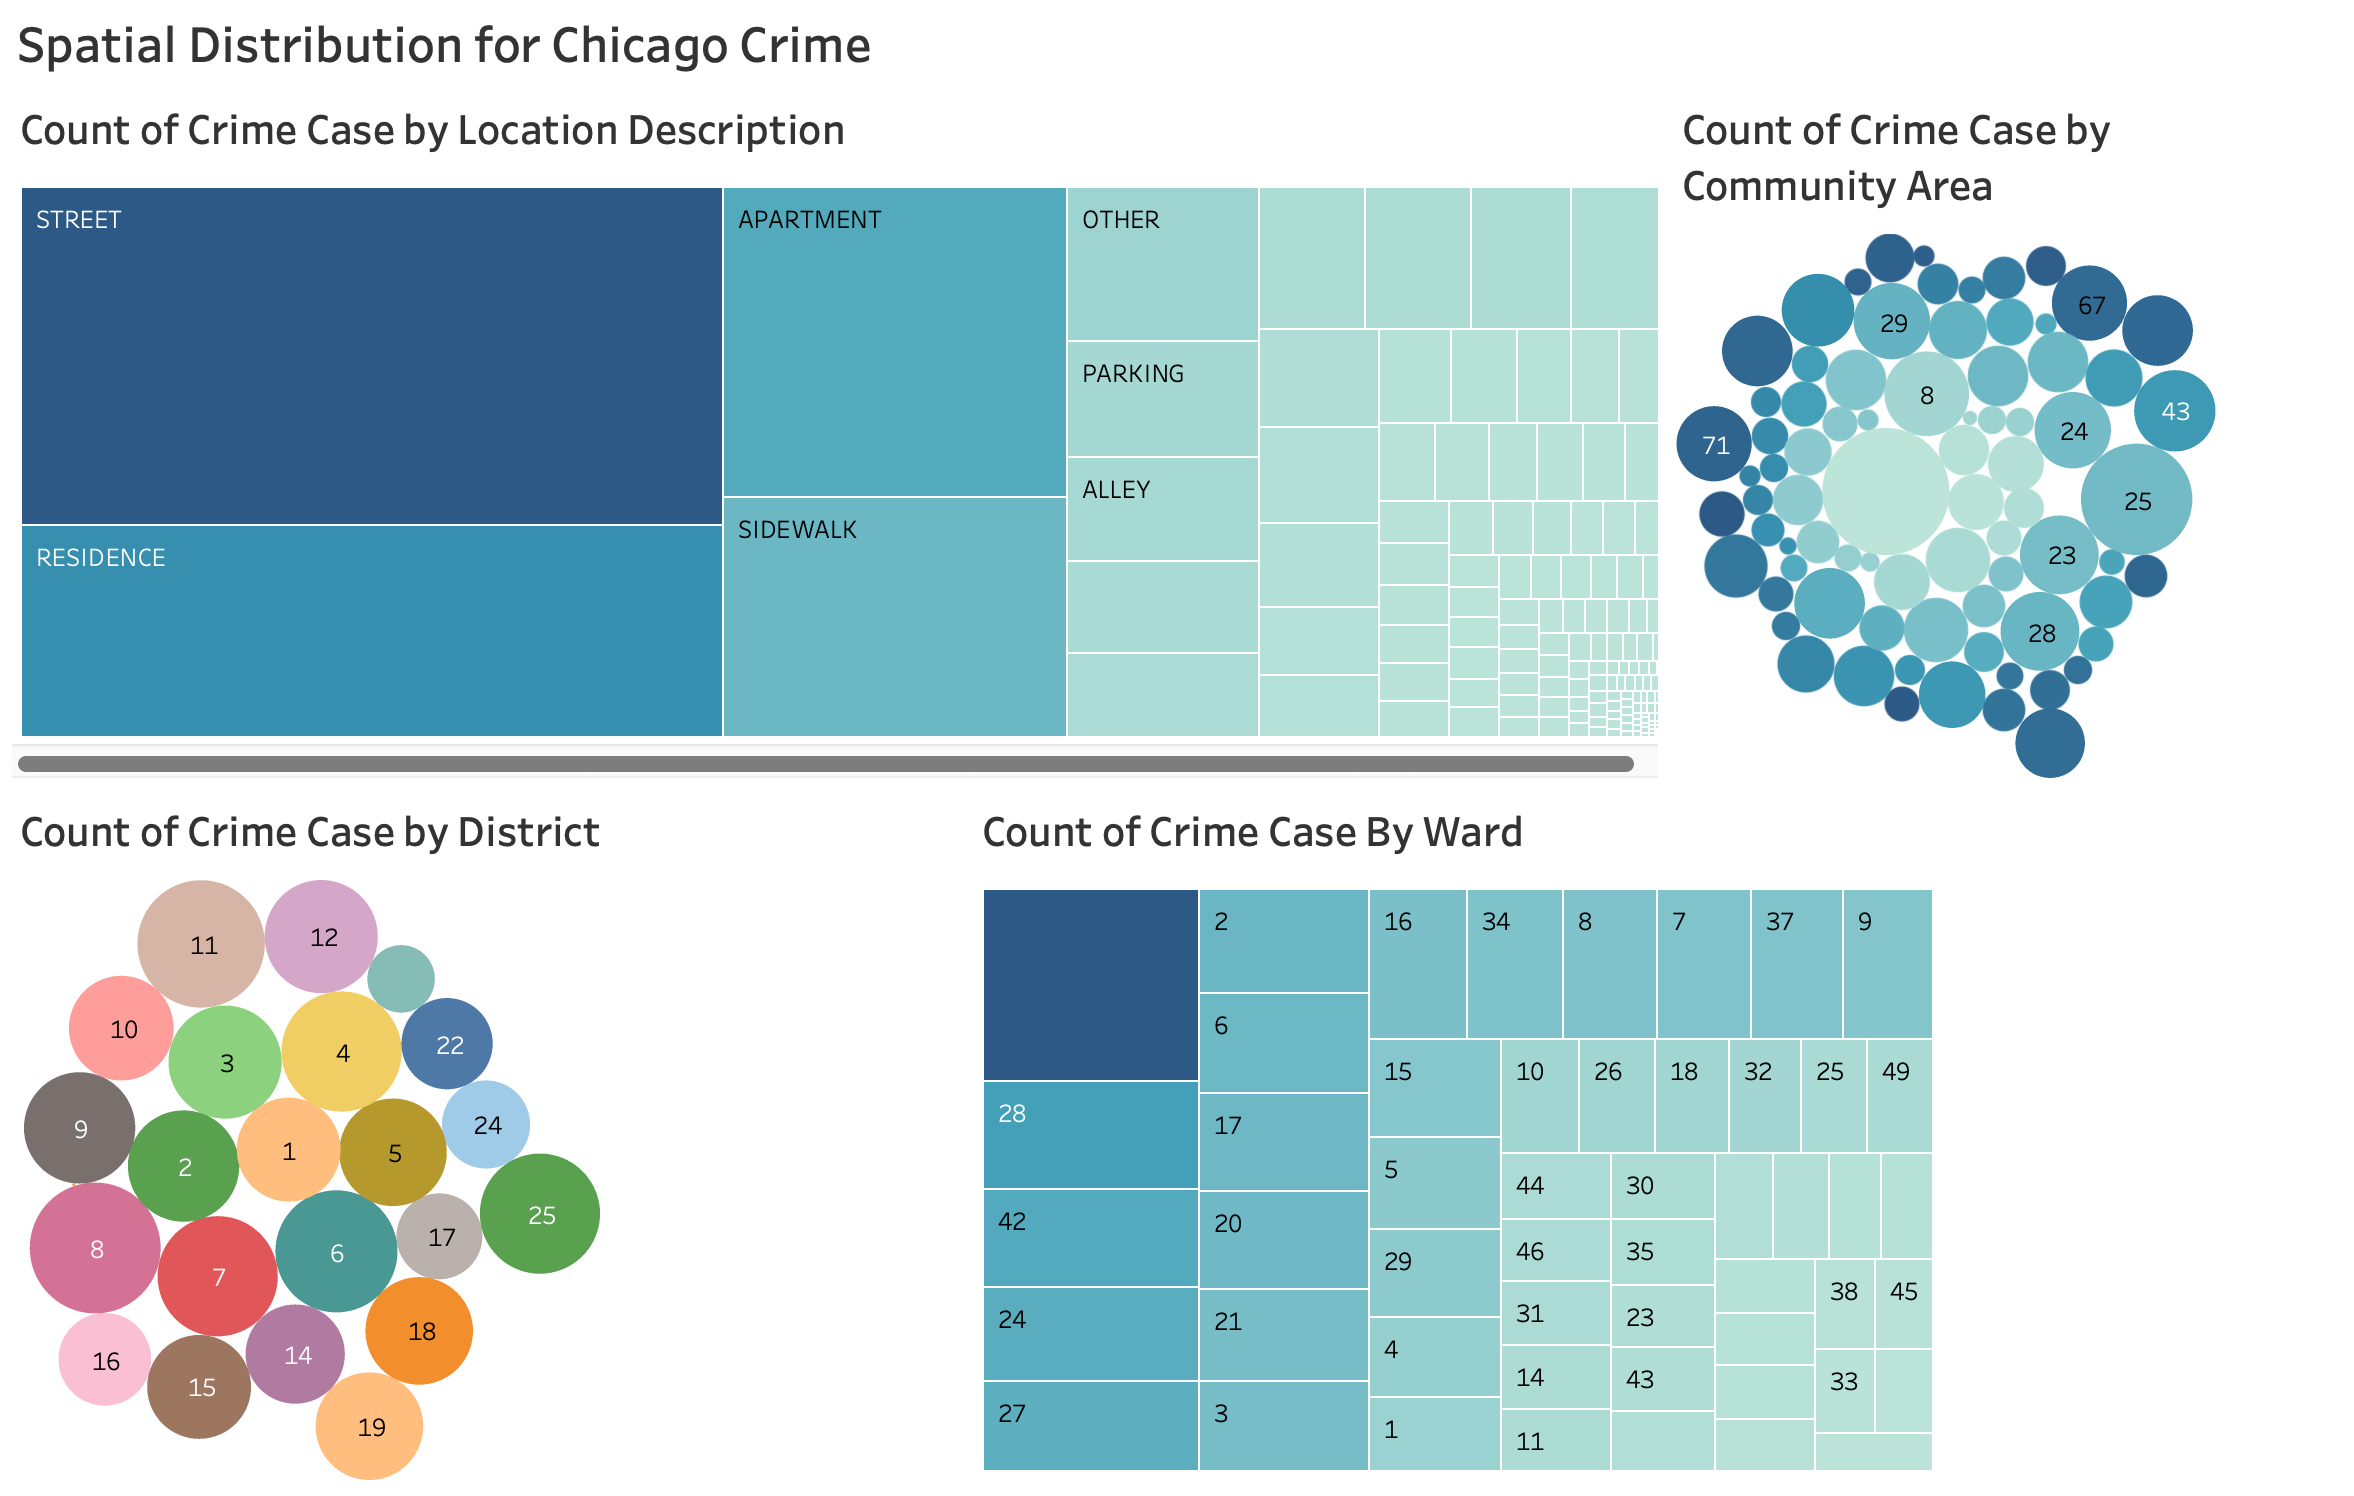

The page's visual inventory and layout, read from the dashboard file:
{"tool":"tableau","page":{"name":"Spatial Distribution","canvas":[1000,1000],"units":"permille","ordinal":0},"visuals":[{"type":"title","box":[6.2,9.8,987.7,50.4]},{"type":"worksheet","title":"Location","mark":"Automatic","box":[6.2,60.3,660.2,464.9]},{"type":"worksheet","title":"Community Area","mark":"Circle","box":[666.4,60.3,327.4,464.9]},{"type":"worksheet","title":"District","mark":"Circle","box":[6.2,525.2,382,464.9]},{"type":"worksheet","title":"Ward","mark":"Automatic","box":[388.2,525.2,605.7,464.9]}]}

Visuals, with their boxes on the dashboard's canvas, which has no fixed pixel size, in thousandths of its width and height (x1, y1, x2, y2). These are canvas units, not pixel positions in the 2354x1496 screenshot, which may show the page scaled, cropped or inside an application window:
title: (left=6, top=10, right=994, bottom=60)
"Location" worksheet: (left=6, top=60, right=666, bottom=525)
"Community Area" worksheet (Circle marks): (left=666, top=60, right=994, bottom=525)
"District" worksheet (Circle marks): (left=6, top=525, right=388, bottom=990)
"Ward" worksheet: (left=388, top=525, right=994, bottom=990)
